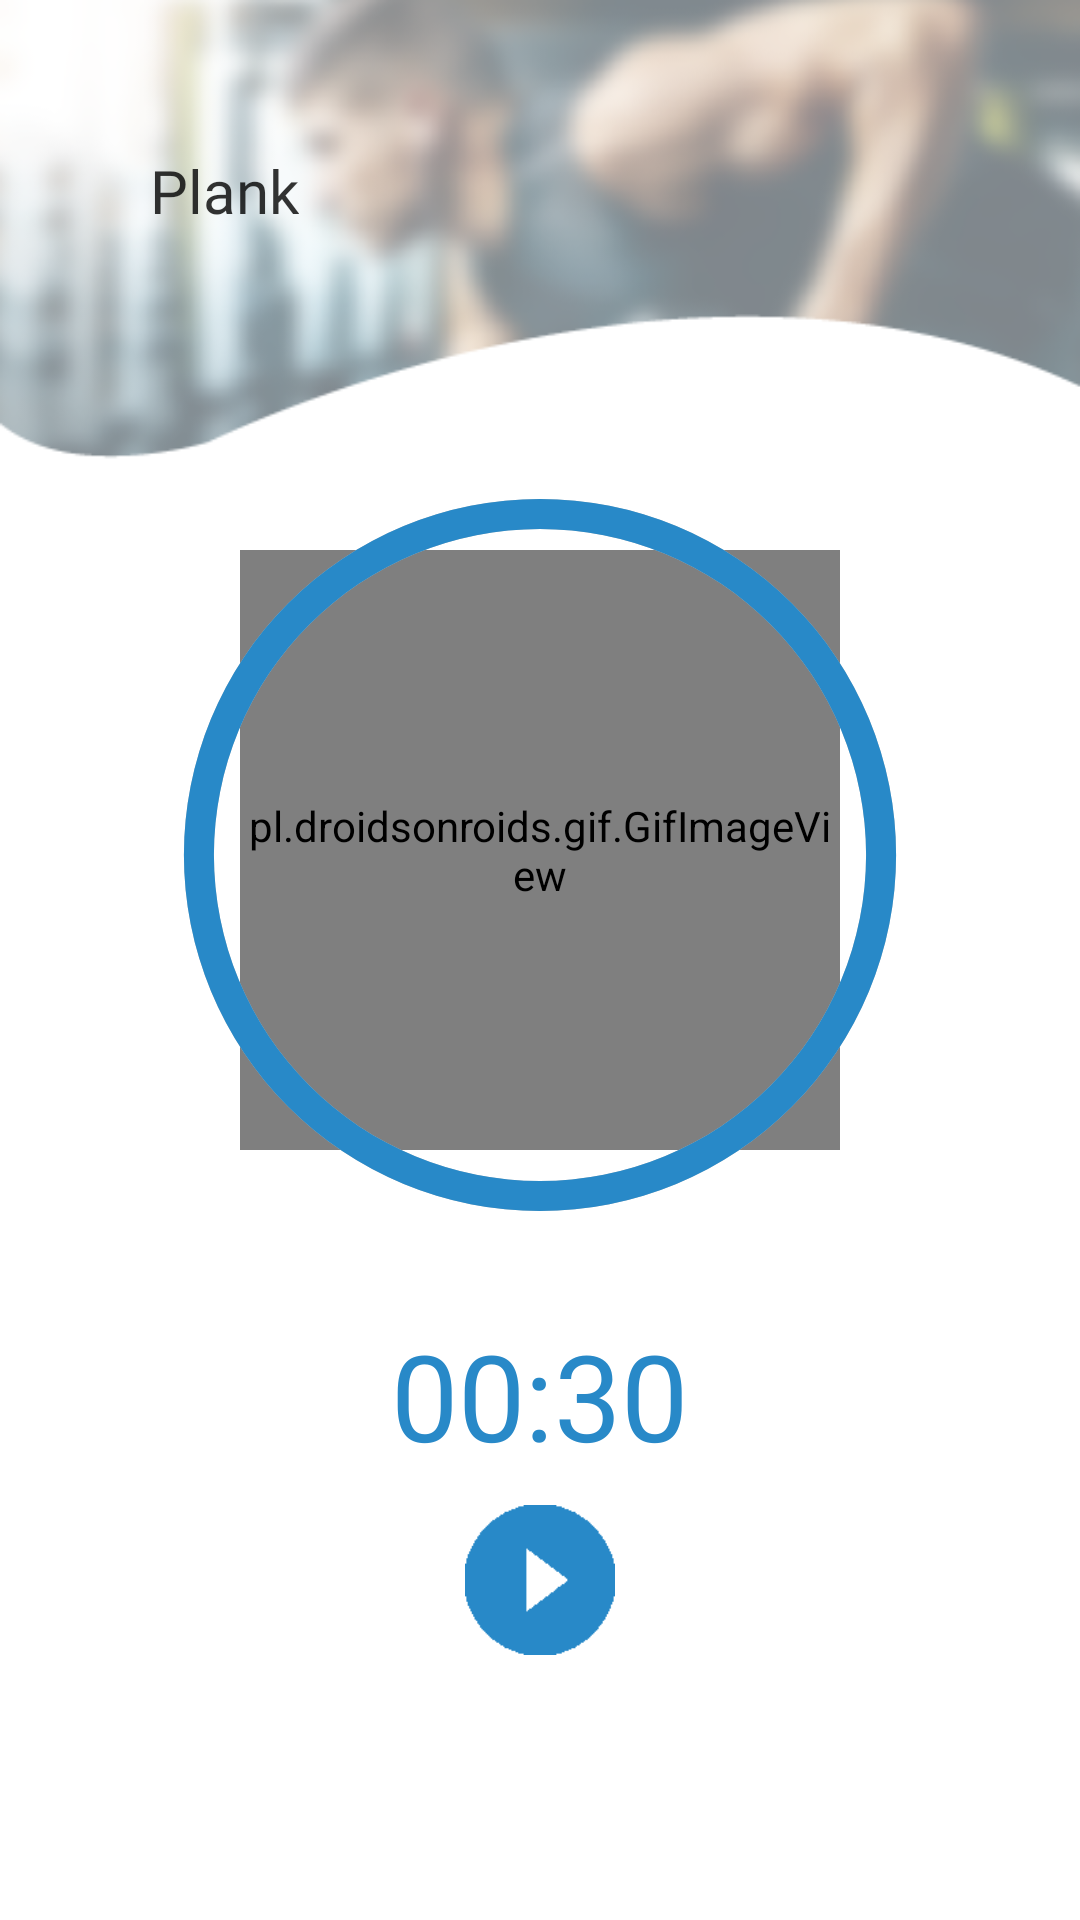

Point at icon controls on the screen. Image size 1080*1920, points as (x=x, y=y).
start: (x=540, y=1580)
